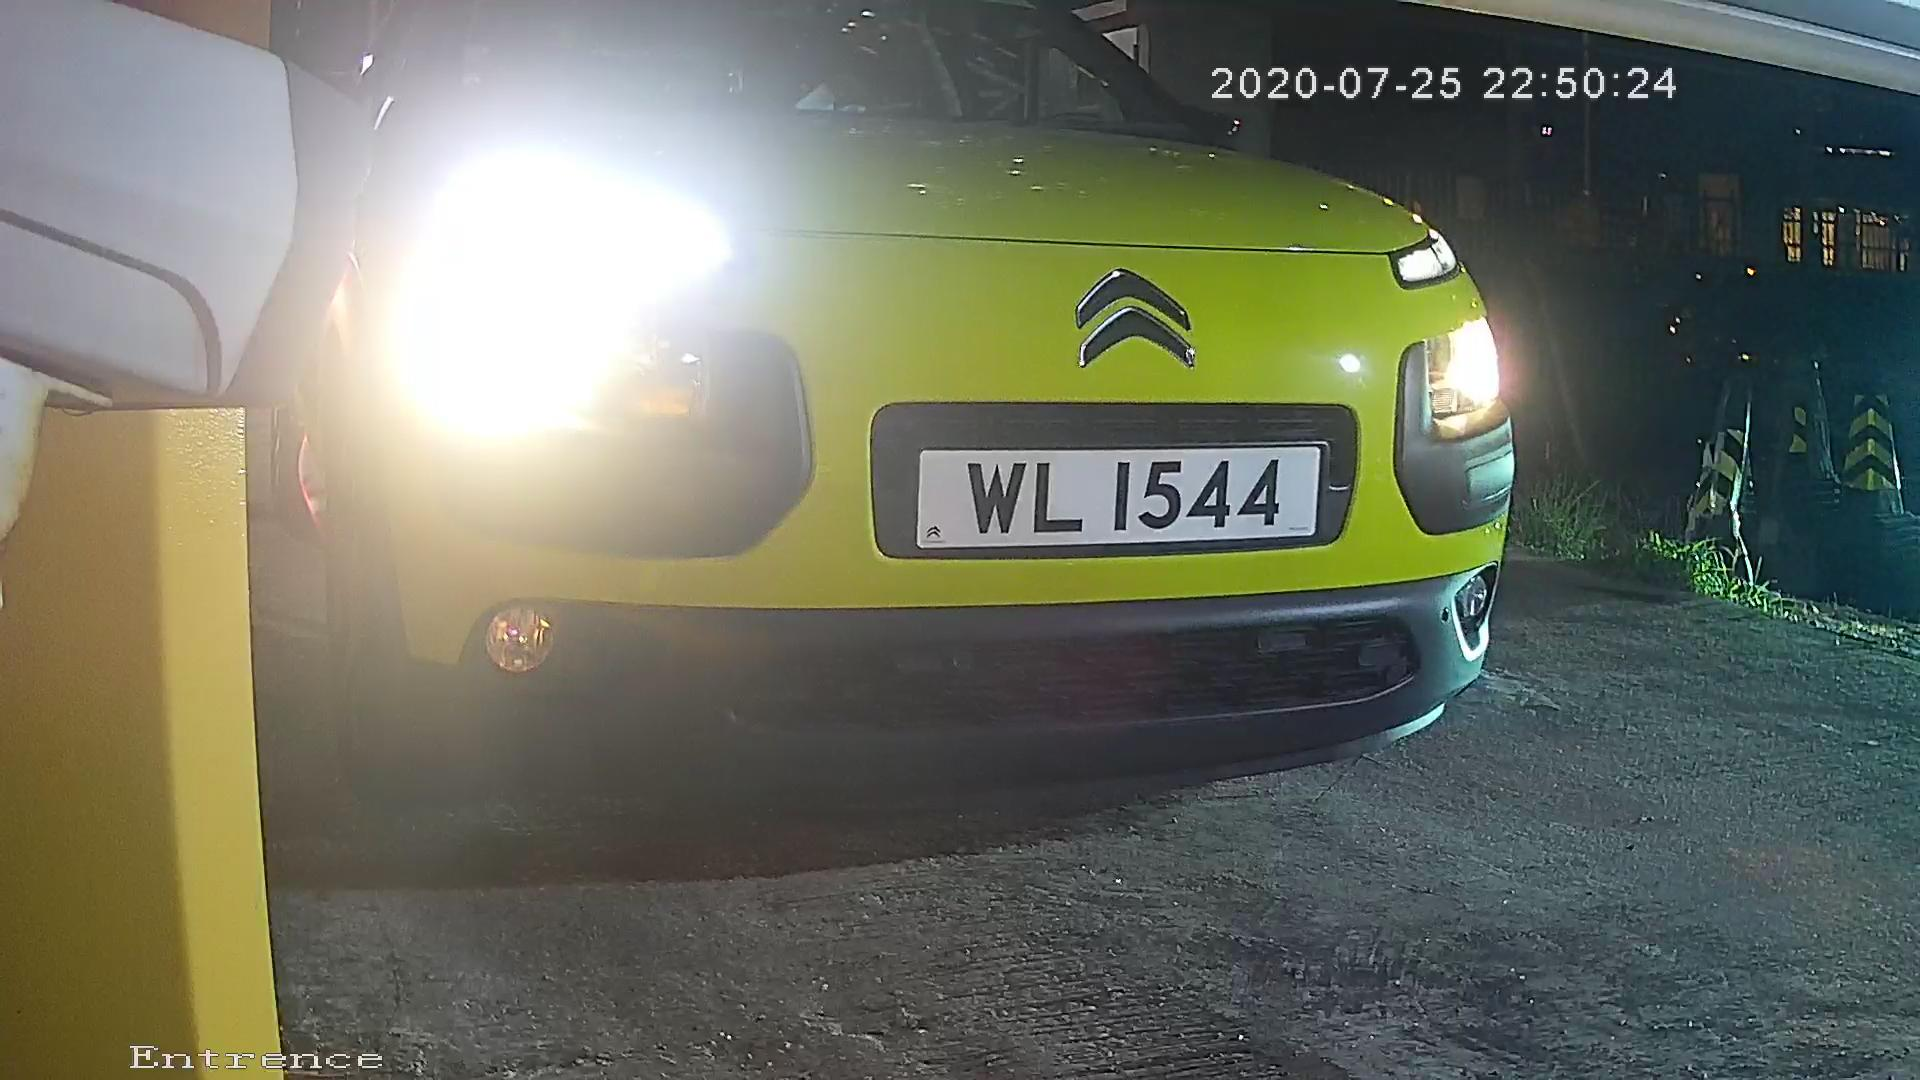Car: (69, 1, 1629, 801)
License Plate: (883, 420, 1346, 565)
